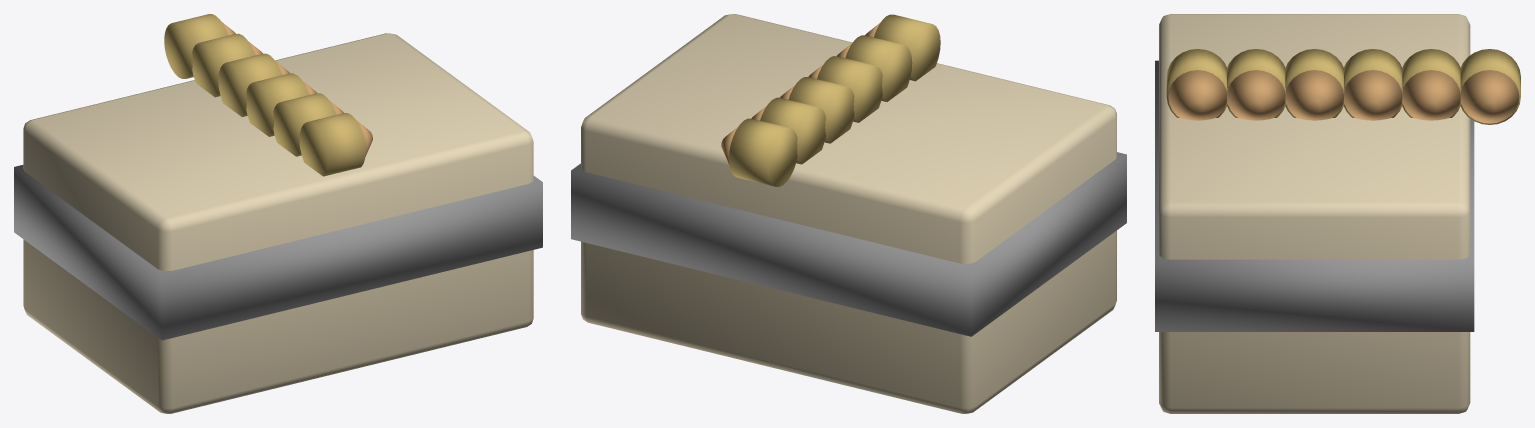
Rendered from SM_Ammo_ball.glb.
3 views of the same model, side by side, from view 1: azimuth 30°, elevation 25°; view 2: azimuth 150°, elevation 25°; view 3: azimuth 270°, elevation 25° (orthographic). The views are drawn at different scales.
Visible parts, largest first — view 1: SM_Ammo_ball; view 2: SM_Ammo_ball; view 3: SM_Ammo_ball.
Part boxes in pixels (<box>): SM_Ammo_ball: <box>14,14,542,413</box>; SM_Ammo_ball: <box>571,14,1126,413</box>; SM_Ammo_ball: <box>1155,14,1520,413</box>.
Size of the model in its own units: 0.122 by 0.074 by 0.094.
